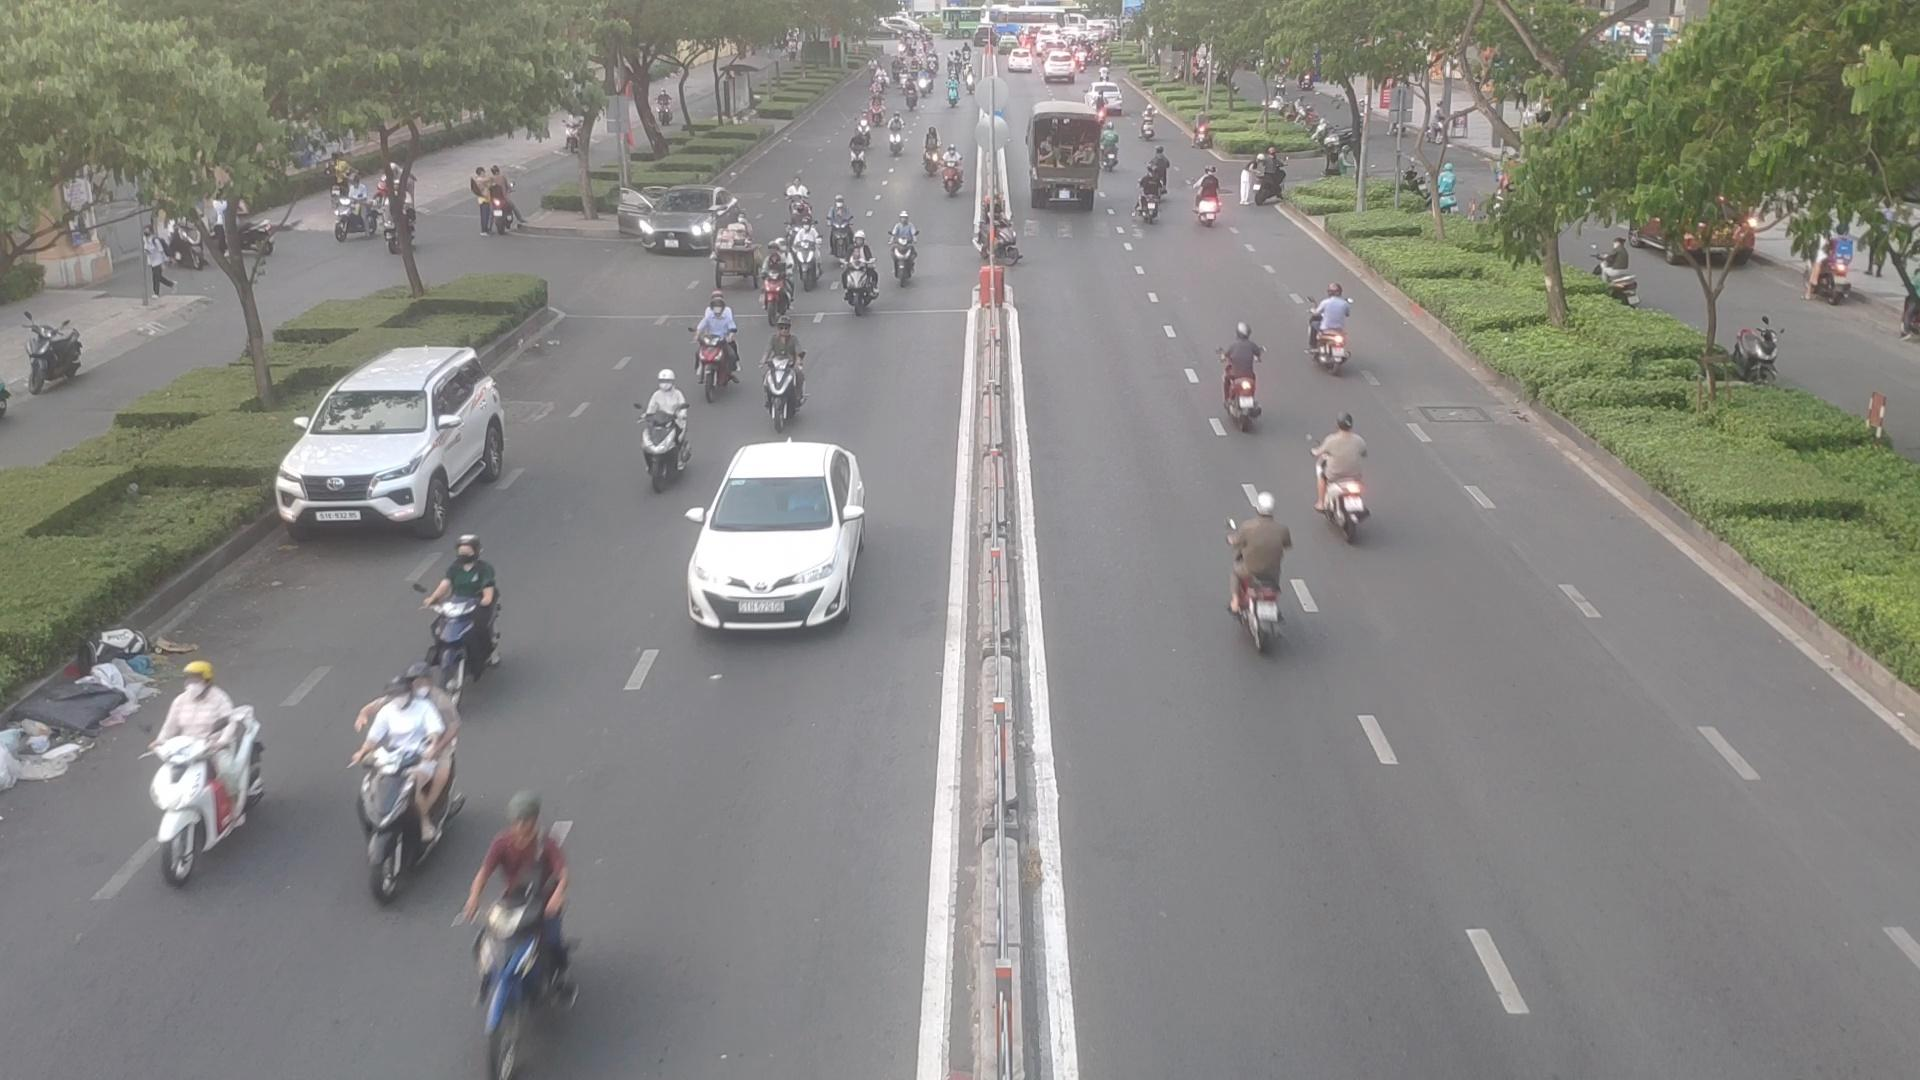car: (280, 343, 521, 530), (673, 440, 870, 630), (615, 191, 736, 258)
motorbike: (442, 804, 574, 1076), (137, 674, 281, 873), (356, 688, 465, 887), (1218, 500, 1317, 647), (419, 535, 506, 673), (353, 680, 464, 785), (1309, 419, 1383, 535), (632, 378, 694, 477), (1216, 328, 1270, 425), (688, 299, 745, 389), (767, 320, 820, 415), (1309, 284, 1364, 367), (837, 251, 882, 315), (885, 214, 919, 285), (825, 202, 860, 251), (940, 148, 969, 196), (847, 140, 872, 181), (881, 123, 909, 157)
